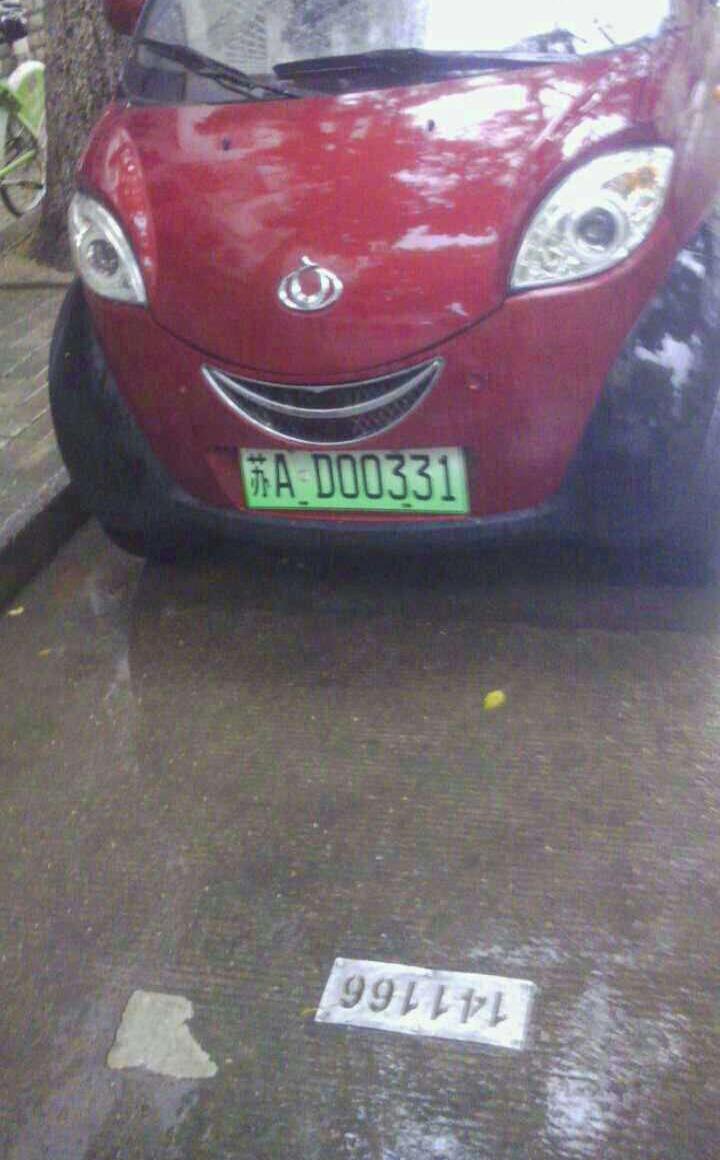car_id: (240, 445, 468, 514)
